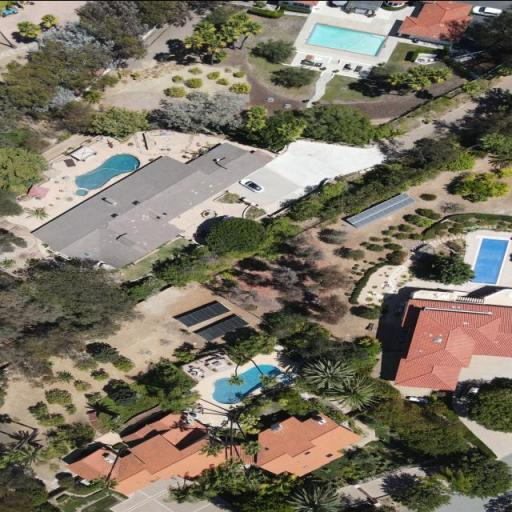solar-panel: (347, 192, 416, 228), (176, 301, 232, 327), (195, 315, 250, 341)
